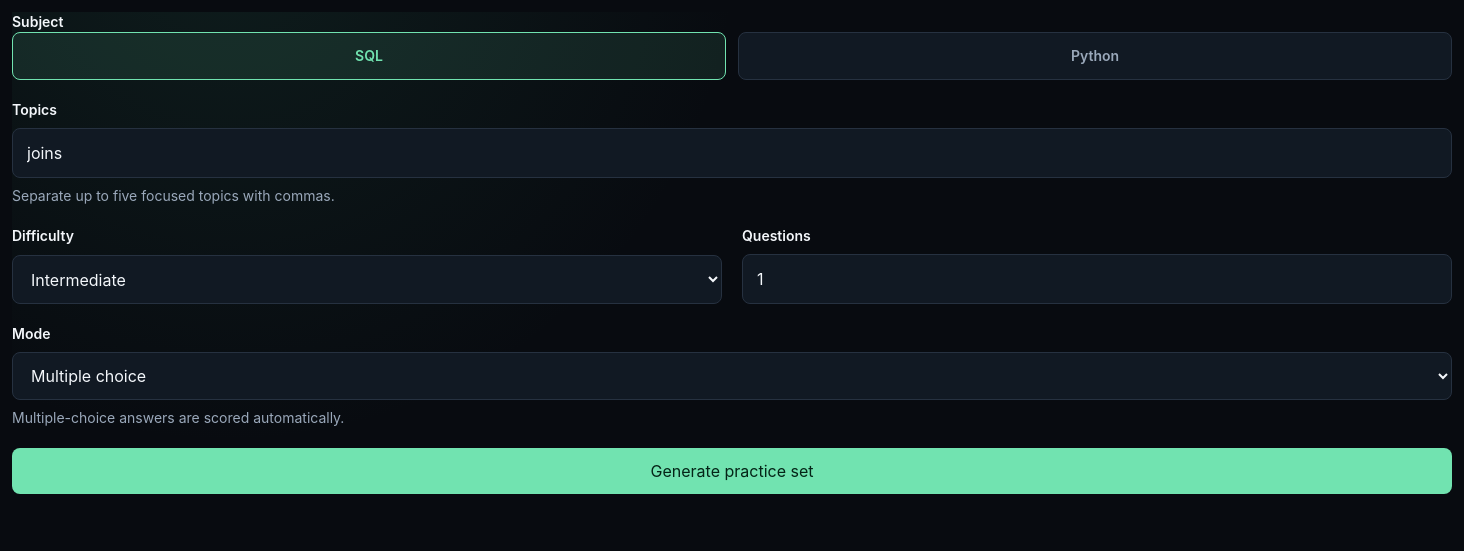
Test case: GenerationForm › does not navigate when browser session storage is unavailable
Click the button "Generate practice set" at (732, 471), box [12,448,1452,494]
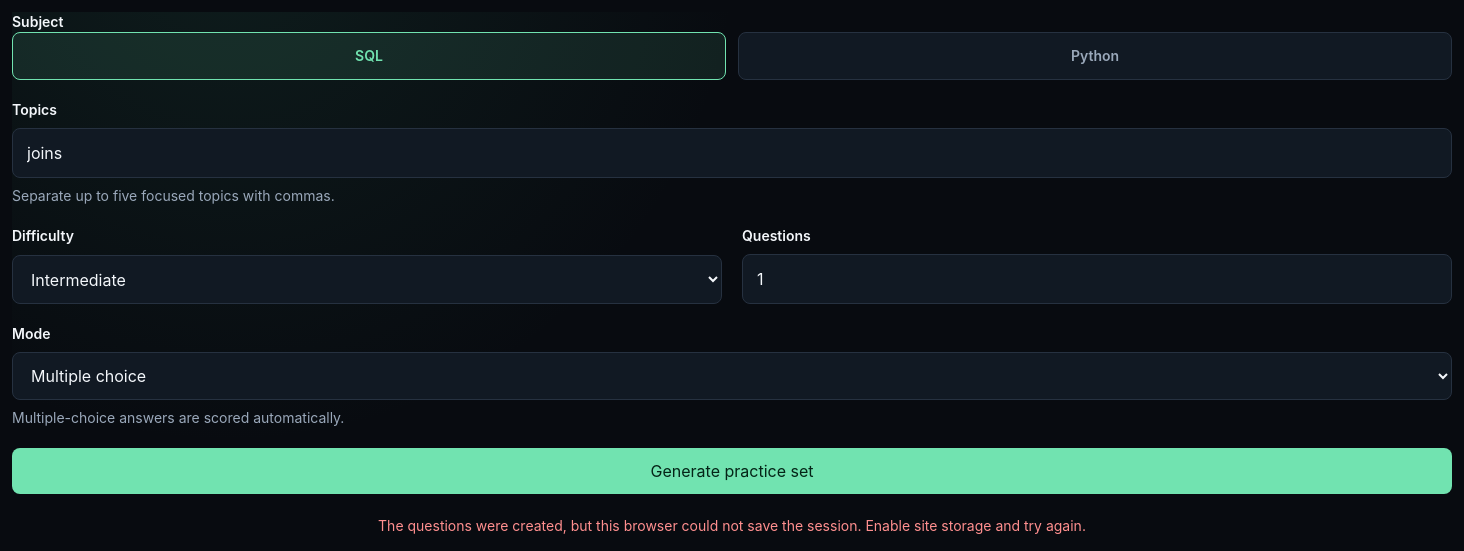
Now the text "this browser could not save the session" is shown, box [378,517,1086,534]
